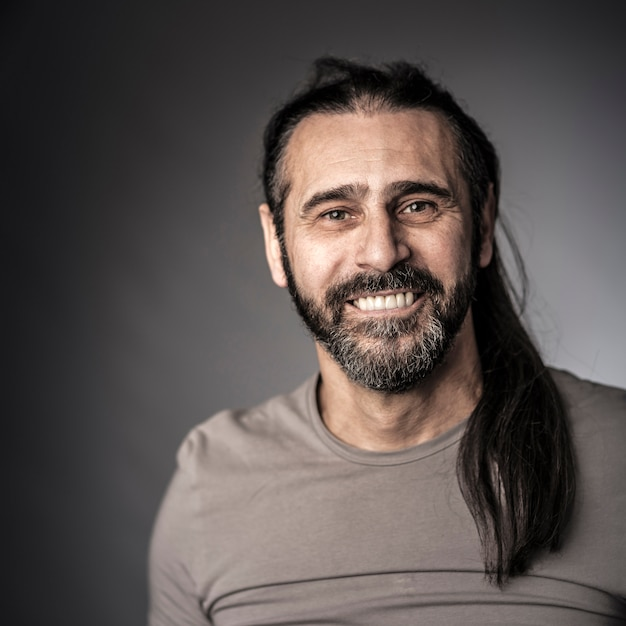young: (259, 57, 496, 385)
